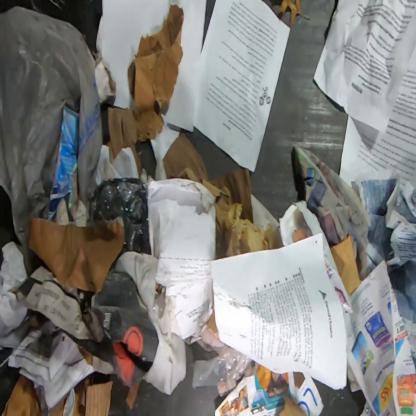cardboard: (162, 132, 254, 260), (127, 3, 185, 144), (28, 216, 125, 293), (104, 107, 142, 178), (329, 232, 362, 298), (73, 372, 115, 415), (1, 374, 41, 416), (275, 393, 312, 415)
rigid_plastic: (87, 177, 152, 264), (36, 385, 62, 416)
soft_plastic: (0, 6, 104, 277), (191, 346, 253, 389)
